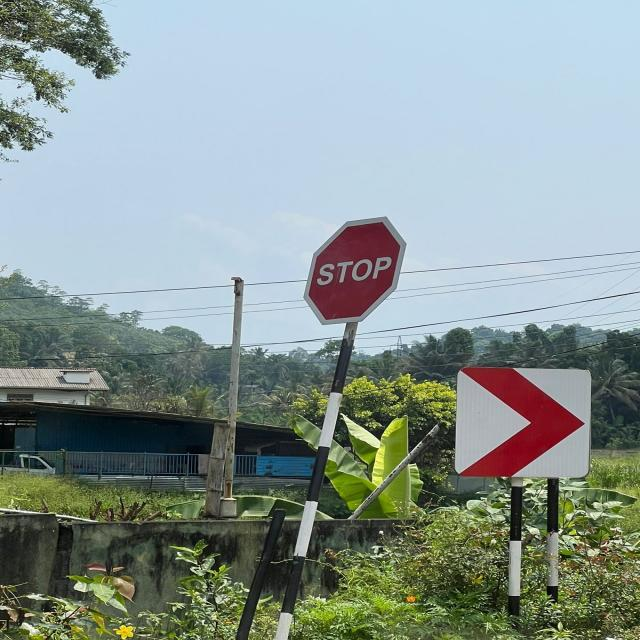stop: (298, 214, 409, 327)
